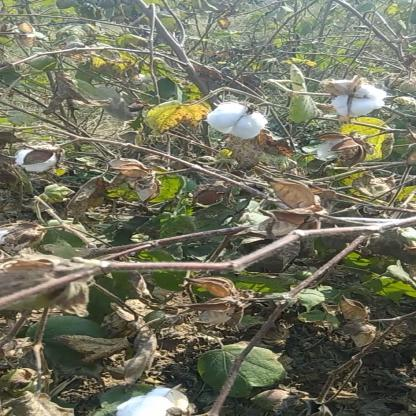cotton_ready: (302, 72, 394, 128), (196, 101, 284, 147), (12, 140, 74, 184), (104, 386, 196, 414)
